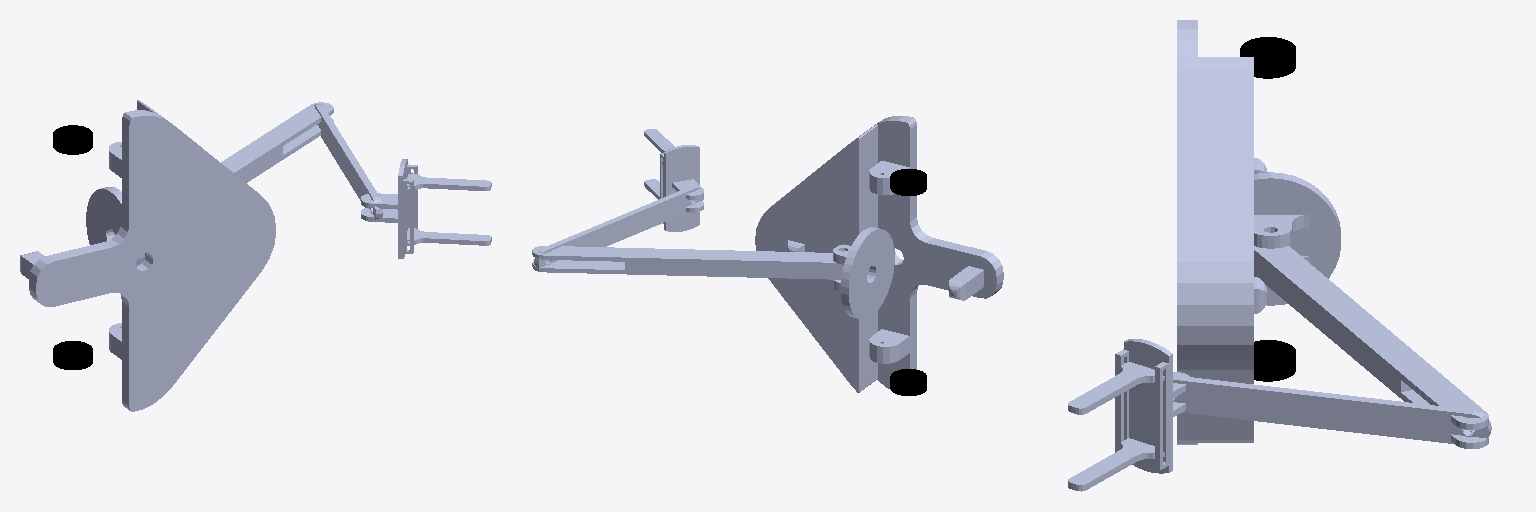
URDF robot description (medibot):
<?xml version="1.0" encoding="utf-8"?>
<!-- This URDF was automatically created by SolidWorks to URDF Exporter! Originally created by [author] ([email redacted]) 
     Commit Version: 1.6.0-4-g7f85cfe  Build Version: 1.6.7995.38578
     For more information, please see http://wiki.ros.org/sw_urdf_exporter -->
<robot
  name="medibot">
  <link
    name="base_link">
    <inertial>
      <origin
        xyz="-0.05111 -4.9667E-08 0.15603"
        rpy="0 0 0" />
      <mass
        value="19500000.11" />
      <inertia
        ixx="200.251"
        ixy="-1.2102E-06"
        ixz="0.0020377"
        iyy="60.4156"
        iyz="1.6252E-06"
        izz="140.291" />
    </inertial>
    <visual>
      <origin
        xyz="0 0 0"
        rpy="0 0 0" />
      <geometry>
        <mesh
          filename="package://medibot/meshes/base_link.STL" />
      </geometry>
      <material
        name="">
        <color
          rgba="0.79216 0.81961 0.93333 1" />
      </material>
    </visual>
    <collision>
      <origin
        xyz="0 0 0"
        rpy="0 0 0" />
      <geometry>
        <mesh
          filename="package://medibot/meshes/base_link.STL" />
      </geometry>
    </collision>
  </link>
  <link
    name="right_wheel_link">
    <inertial>
      <origin
        xyz="2.77555756156289E-17 2.26359659528768E-15 -0.0381000000000004"
        rpy="0 0 0" />
      <mass
        value="10.53222657003947" />
      <inertia
        ixx="0.00510463830721736"
        ixy="-3.98358891896071E-34"
        ixz="-1.48533664021471E-20"
        iyy="0.00510463830721736"
        iyz="-1.42599056827752E-17"
        izz="0.0091888376194497" />
    </inertial>
    <visual>
      <origin
        xyz="0 0 0"
        rpy="0 0 0" />
      <geometry>
        <mesh
          filename="package://medibot/meshes/right_wheel_link.STL" />
      </geometry>
      <material
        name="">
        <color
          rgba="0 0 0 1" />
      </material>
    </visual>
    <collision>
      <origin
        xyz="0 0 0"
        rpy="0 0 0" />
      <geometry>
        <mesh
          filename="package://medibot/meshes/right_wheel_link.STL" />
      </geometry>
    </collision>
  </link>
  <joint
    name="right_wheel_joint"
    type="continuous">
    <origin
      xyz="-0.2286 0 0.56515"
      rpy="3.1416 0 0" />
    <parent
      link="base_link" />
    <child
      link="right_wheel_link" />
    <axis
      xyz="0 0 1" />
  </joint>
  <link
    name="left_wheel_link">
    <inertial>
      <origin
        xyz="0 -1.95900754497684E-15 0.0381000000000004"
        rpy="0 0 0" />
      <mass
        value="10.53222657003947" />
      <inertia
        ixx="0.00510463830721736"
        ixy="-3.20069116401362E-34"
        ixz="-1.19847481541124E-20"
        iyy="0.00510463830721736"
        iyz="-1.42599056827752E-17"
        izz="0.0091888376194497" />
    </inertial>
    <visual>
      <origin
        xyz="0 0 0"
        rpy="0 0 0" />
      <geometry>
        <mesh
          filename="package://medibot/meshes/left_wheel_link.STL" />
      </geometry>
      <material
        name="">
        <color
          rgba="0 0 0 1" />
      </material>
    </visual>
    <collision>
      <origin
        xyz="0 0 0"
        rpy="0 0 0" />
      <geometry>
        <mesh
          filename="package://medibot/meshes/left_wheel_link.STL" />
      </geometry>
    </collision>
  </link>
  <joint
    name="left_wheel_joint"
    type="continuous">
    <origin
      xyz="-0.2286 0 -0.56515"
      rpy="3.1416 0 0" />
    <parent
      link="base_link" />
    <child
      link="left_wheel_link" />
    <axis
      xyz="0 0 1" />
  </joint>
  <link
    name="shoulder_link">
    <inertial>
      <origin
        xyz="-0.0524242178355014 -0.00999999999999616 -1.29771575191369E-14"
        rpy="0 0 0" />
      <mass
        value="1.24315449687455" />
      <inertia
        ixx="0.355566872775544"
        ixy="1.29930496355167E-18"
        ixz="2.96236876017484E-17"
        iyy="0.212917307792623"
        iyz="-1.30788974984502E-18"
        izz="0.201067710632801" />
    </inertial>
    <visual>
      <origin
        xyz="0 0 0"
        rpy="0 0 0" />
      <geometry>
        <mesh
          filename="package://medibot/meshes/shoulder_link.STL" />
      </geometry>
      <material
        name="">
        <color
          rgba="0.792156862745098 0.819607843137255 0.933333333333333 1" />
      </material>
    </visual>
    <collision>
      <origin
        xyz="0 0 0"
        rpy="0 0 0" />
      <geometry>
        <mesh
          filename="package://medibot/meshes/shoulder_link.STL" />
      </geometry>
    </collision>
  </link>
  <joint
    name="shoulder_joint"
    type="revolute">
    <origin
      xyz="0 0.01 0"
      rpy="-3.1416 0 3.1416" />
    <parent
      link="base_link" />
    <child
      link="shoulder_link" />
    <axis
      xyz="1 0 0" />
    <limit
      lower="0"
      upper="0"
      effort="0"
      velocity="0" />
  </joint>
  <link
    name="upper_arm_link">
    <inertial>
      <origin
        xyz="-1.30522788784914E-14 0.712204262090386 -3.4555691641458E-15"
        rpy="0 0 0" />
      <mass
        value="1.90918358684229" />
      <inertia
        ixx="4.07830149235837"
        ixy="-3.28753545519875E-16"
        ixz="-6.9193587137927E-18"
        iyy="0.044116375740174"
        iyz="2.10595429983584E-15"
        izz="4.07101383476367" />
    </inertial>
    <visual>
      <origin
        xyz="0 0 0"
        rpy="0 0 0" />
      <geometry>
        <mesh
          filename="package://medibot/meshes/upper_arm_link.STL" />
      </geometry>
      <material
        name="">
        <color
          rgba="0.792156862745098 0.819607843137255 0.933333333333333 1" />
      </material>
    </visual>
    <collision>
      <origin
        xyz="0 0 0"
        rpy="0 0 0" />
      <geometry>
        <mesh
          filename="package://medibot/meshes/upper_arm_link.STL" />
      </geometry>
    </collision>
  </link>
  <joint
    name="upper_arm_joint"
    type="revolute">
    <origin
      xyz="-0.18415 -0.01 0"
      rpy="1.1061 -1.5708 0" />
    <parent
      link="shoulder_link" />
    <child
      link="upper_arm_link" />
    <axis
      xyz="1 0 0" />
    <limit
      lower="0"
      upper="0"
      effort="0"
      velocity="0" />
  </joint>
  <link
    name="forearm_link">
    <inertial>
      <origin
        xyz="1.09786092106602E-14 -0.558800000000001 2.88657986402541E-15"
        rpy="0 0 0" />
      <mass
        value="5.85882853421145" />
      <inertia
        ixx="0.734757764586195"
        ixy="1.95233890147886E-16"
        ixz="2.85521408422499E-18"
        iyy="0.0086039807633802"
        iyz="4.58162154048924E-15"
        izz="0.72757123950424" />
    </inertial>
    <visual>
      <origin
        xyz="0 0 0"
        rpy="0 0 0" />
      <geometry>
        <mesh
          filename="package://medibot/meshes/forearm_link.STL" />
      </geometry>
      <material
        name="">
        <color
          rgba="0.792156862745098 0.819607843137255 0.933333333333333 1" />
      </material>
    </visual>
    <collision>
      <origin
        xyz="0 0 0"
        rpy="0 0 0" />
      <geometry>
        <mesh
          filename="package://medibot/meshes/forearm_link.STL" />
      </geometry>
    </collision>
  </link>
  <joint
    name="forearm_joint"
    type="revolute">
    <origin
      xyz="0 1.6256 0"
      rpy="-2.3034 0 3.1416" />
    <parent
      link="upper_arm_link" />
    <child
      link="forearm_link" />
    <axis
      xyz="1 0 0" />
    <limit
      lower="0"
      upper="0"
      effort="0"
      velocity="0" />
  </joint>
  <link
    name="wrist_link">
    <inertial>
      <origin
        xyz="-0.118648814072355 -1.75748653823378E-09 -1.11022302462516E-16"
        rpy="0 0 0" />
      <mass
        value="0.435433420414568" />
      <inertia
        ixx="0.0793234207582876"
        ixy="7.16176878956162E-10"
        ixz="-3.44106553590962E-20"
        iyy="0.0309744477679612"
        iyz="-3.12343399305121E-17"
        izz="0.0792232632613356" />
    </inertial>
    <visual>
      <origin
        xyz="0 0 0"
        rpy="0 0 0" />
      <geometry>
        <mesh
          filename="package://medibot/meshes/wrist_link.STL" />
      </geometry>
      <material
        name="">
        <color
          rgba="0.792156862745098 0.819607843137255 0.933333333333333 1" />
      </material>
    </visual>
    <collision>
      <origin
        xyz="0 0 0"
        rpy="0 0 0" />
      <geometry>
        <mesh
          filename="package://medibot/meshes/wrist_link.STL" />
      </geometry>
    </collision>
  </link>
  <joint
    name="wrist_joint"
    type="revolute">
    <origin
      xyz="0 -1.1176 0"
      rpy="3.1416 -1.1973 1.5708" />
    <parent
      link="forearm_link" />
    <child
      link="wrist_link" />
    <axis
      xyz="0 1 0" />
    <limit
      lower="0"
      upper="0"
      effort="0"
      velocity="0" />
  </joint>
  <link
    name="left_finger_link">
    <inertial>
      <origin
        xyz="0.190057084391041 -0.0126999999999997 1.11022302462516E-16"
        rpy="0 0 0" />
      <mass
        value="0.954391471331754" />
      <inertia
        ixx="0.000881419815259492"
        ixy="-4.11360714977644E-17"
        ixz="1.80863448797337E-18"
        iyy="0.0171927460500775"
        iyz="-4.60988197973622E-19"
        izz="0.016413090953063" />
    </inertial>
    <visual>
      <origin
        xyz="0 0 0"
        rpy="0 0 0" />
      <geometry>
        <mesh
          filename="package://medibot/meshes/left_finger_link.STL" />
      </geometry>
      <material
        name="">
        <color
          rgba="0.792156862745098 0.819607843137255 0.933333333333333 1" />
      </material>
    </visual>
    <collision>
      <origin
        xyz="0 0 0"
        rpy="0 0 0" />
      <geometry>
        <mesh
          filename="package://medibot/meshes/left_finger_link.STL" />
      </geometry>
    </collision>
  </link>
  <joint
    name="left_finger_joint"
    type="prismatic">
    <origin
      xyz="-0.15875 -0.1651 0"
      rpy="3.1416 0 -3.1416" />
    <parent
      link="wrist_link" />
    <child
      link="left_finger_link" />
    <axis
      xyz="0 1 0" />
    <limit
      lower="0"
      upper="0"
      effort="0"
      velocity="0" />
  </joint>
  <link
    name="right_finger_link">
    <inertial>
      <origin
        xyz="0.190057084391041 -0.0127000000000006 0"
        rpy="0 0 0" />
      <mass
        value="0.954391471331755" />
      <inertia
        ixx="0.000881419815259493"
        ixy="4.07915390517336E-17"
        ixz="2.64751757013716E-18"
        iyy="0.0171927460500775"
        iyz="-4.30533341981067E-19"
        izz="0.0164130909530631" />
    </inertial>
    <visual>
      <origin
        xyz="0 0 0"
        rpy="0 0 0" />
      <geometry>
        <mesh
          filename="package://medibot/meshes/right_finger_link.STL" />
      </geometry>
      <material
        name="">
        <color
          rgba="0.792156862745098 0.819607843137255 0.933333333333333 1" />
      </material>
    </visual>
    <collision>
      <origin
        xyz="0 0 0"
        rpy="0 0 0" />
      <geometry>
        <mesh
          filename="package://medibot/meshes/right_finger_link.STL" />
      </geometry>
    </collision>
  </link>
  <joint
    name="right_finger_joint"
    type="prismatic">
    <origin
      xyz="-0.15875 0.1651 0"
      rpy="0 0 -3.1416" />
    <parent
      link="wrist_link" />
    <child
      link="right_finger_link" />
    <axis
      xyz="0 1 0" />
    <limit
      lower="0"
      upper="0"
      effort="0"
      velocity="0" />
  </joint>


  <!-- ros2_control hardware interface for Gazebo -->
  <ros2_control name="GazeboSimSystem" type="system">
    <hardware>
      <plugin>gz_ros2_control/GazeboSimSystem</plugin>
    </hardware>

    <!-- Differential drive wheels: velocity-controlled -->
    <joint name="left_wheel_joint">
      <command_interface name="velocity"/>
      <state_interface name="position"/>
      <state_interface name="velocity"/>
    </joint>

    <joint name="right_wheel_joint">
      <command_interface name="velocity"/>
      <state_interface name="position"/>
      <state_interface name="velocity"/>
    </joint>

    <!-- Arm joints: position-controlled -->
    <joint name="shoulder_joint">
      <command_interface name="position"/>
      <state_interface name="position"/>
      <state_interface name="velocity"/>
    </joint>

    <joint name="upper_arm_joint">
      <command_interface name="position"/>
      <state_interface name="position"/>
      <state_interface name="velocity"/>
    </joint>

    <joint name="forearm_joint">
      <command_interface name="position"/>
      <state_interface name="position"/>
      <state_interface name="velocity"/>
    </joint>

    <joint name="wrist_joint">
      <command_interface name="position"/>
      <state_interface name="position"/>
      <state_interface name="velocity"/>
    </joint>

    <!-- Gripper fingers: position-controlled prismatic joints -->
    <joint name="left_finger_joint">
      <command_interface name="position"/>
      <state_interface name="position"/>
      <state_interface name="velocity"/>
    </joint>

    <joint name="right_finger_joint">
      <command_interface name="position"/>
      <state_interface name="position"/>
      <state_interface name="velocity"/>
    </joint>
  </ros2_control>

  <gazebo>
    <plugin filename="gz_ros2_control-system"
            name="gz_ros2_control::GazeboSimROS2ControlPlugin">
      <!-- Where to read URDF from -->
          <parameters>[local-path]/hospital_ws/install/medibot/share/medibot/config/medibot_controllers.yaml</parameters>
      <robot_param>robot_description</robot_param>
      <robot_param_node>robot_state_publisher</robot_param_node>
    </plugin>
  </gazebo>


</robot>

--- Facts derived from the render (not from the file) ---
3 views of the same robot in one strip: view 1: azimuth 30°, elevation 25°; view 2: azimuth 150°, elevation 25°; view 3: azimuth 270°, elevation 25° (orthographic).
Robot: medibot — 9 links, 8 joints (4 revolute, 2 continuous, 2 prismatic); root link base_link; default pose: every joint at zero.
Visible links, largest first — view 1: base_link, upper_arm_link, wrist_link, forearm_link, shoulder_link, right_wheel_link, left_wheel_link, right_finger_link, left_finger_link; view 2: base_link, upper_arm_link, shoulder_link, forearm_link, wrist_link, right_wheel_link, left_wheel_link; view 3: base_link, upper_arm_link, forearm_link, shoulder_link, wrist_link, right_wheel_link, right_finger_link, left_finger_link, left_wheel_link.
Boxes of the visible links, left/top/right/bottom form: base_link: left=20, top=100, right=275, bottom=411; upper_arm_link: left=221, top=102, right=333, bottom=182; wrist_link: left=361, top=159, right=417, bottom=258; forearm_link: left=314, top=104, right=382, bottom=219; shoulder_link: left=86, top=187, right=144, bottom=265; right_wheel_link: left=53, top=125, right=92, bottom=154; left_wheel_link: left=53, top=341, right=92, bottom=369; right_finger_link: left=406, top=172, right=491, bottom=191; left_finger_link: left=406, top=228, right=491, bottom=245; base_link: left=755, top=116, right=1003, bottom=392; upper_arm_link: left=532, top=246, right=843, bottom=279; shoulder_link: left=833, top=227, right=894, bottom=319; forearm_link: left=534, top=186, right=703, bottom=269; wrist_link: left=660, top=145, right=703, bottom=231; right_wheel_link: left=890, top=169, right=926, bottom=195; left_wheel_link: left=890, top=369, right=926, bottom=395; base_link: left=1177, top=20, right=1267, bottom=444; upper_arm_link: left=1254, top=246, right=1488, bottom=448; forearm_link: left=1173, top=375, right=1491, bottom=443; shoulder_link: left=1254, top=172, right=1340, bottom=305; wrist_link: left=1115, top=339, right=1189, bottom=473; right_wheel_link: left=1240, top=37, right=1295, bottom=78; right_finger_link: left=1068, top=362, right=1164, bottom=414; left_finger_link: left=1068, top=438, right=1164, bottom=491; left_wheel_link: left=1254, top=340, right=1295, bottom=381.
Size in the robot's own frame: 2.46 by 1.53 by 1.65 metres.
Meshes: 9 distinct files referenced, 9 mesh visuals loaded (9 binary STL).
